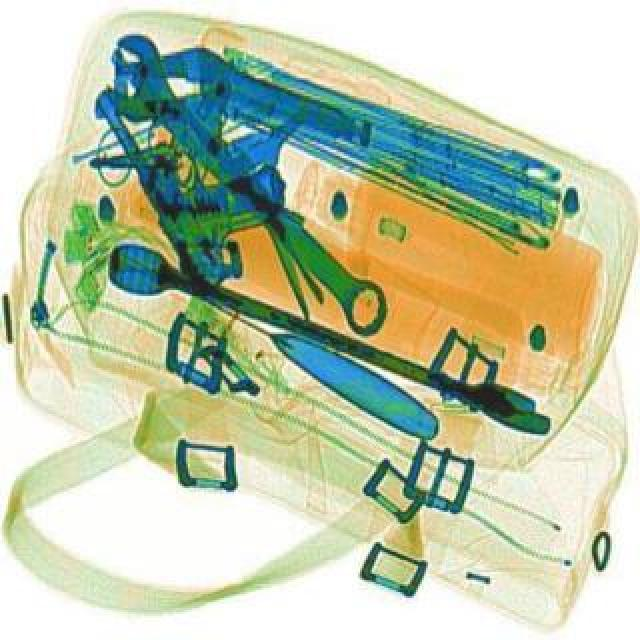gun: (98, 44, 314, 288)
knife: (106, 228, 450, 440)
scissors: (80, 24, 416, 348)
